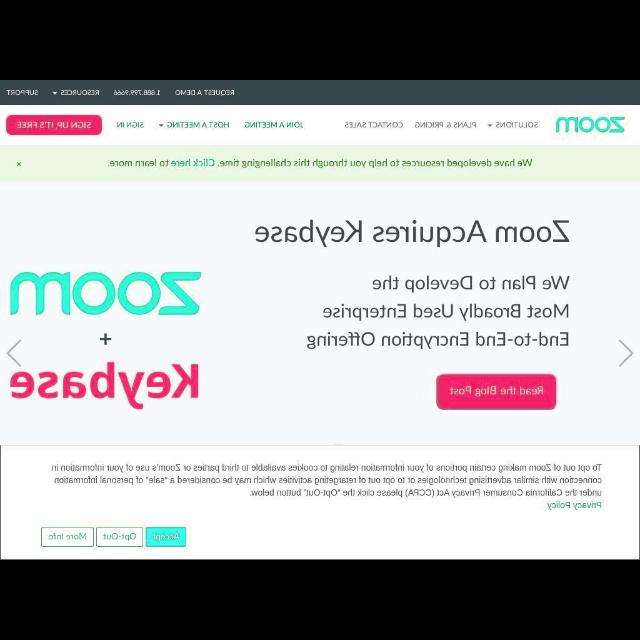icon: (5, 338, 22, 368), (617, 338, 633, 368), (16, 160, 22, 170), (486, 122, 494, 128), (52, 90, 58, 96), (158, 124, 165, 128)
image: (9, 268, 200, 404), (555, 115, 625, 134)
multitab: (1, 80, 639, 104)
spinner: (158, 120, 232, 132), (486, 118, 540, 132), (52, 87, 100, 97)
text: (52, 462, 602, 511), (305, 274, 571, 352), (255, 220, 570, 246), (108, 157, 532, 170), (449, 384, 543, 398), (16, 121, 92, 131), (414, 120, 478, 130), (168, 120, 230, 130), (244, 120, 302, 130), (175, 89, 235, 98), (342, 121, 403, 129), (114, 88, 160, 98), (496, 122, 538, 130), (60, 88, 100, 96), (7, 88, 38, 98), (116, 121, 146, 131), (49, 534, 86, 542), (102, 533, 136, 541), (152, 533, 180, 541)
textbutton: (436, 376, 556, 410), (8, 114, 100, 136), (42, 527, 92, 547), (96, 528, 142, 546), (147, 528, 186, 546)
toolbar: (1, 106, 639, 144)
